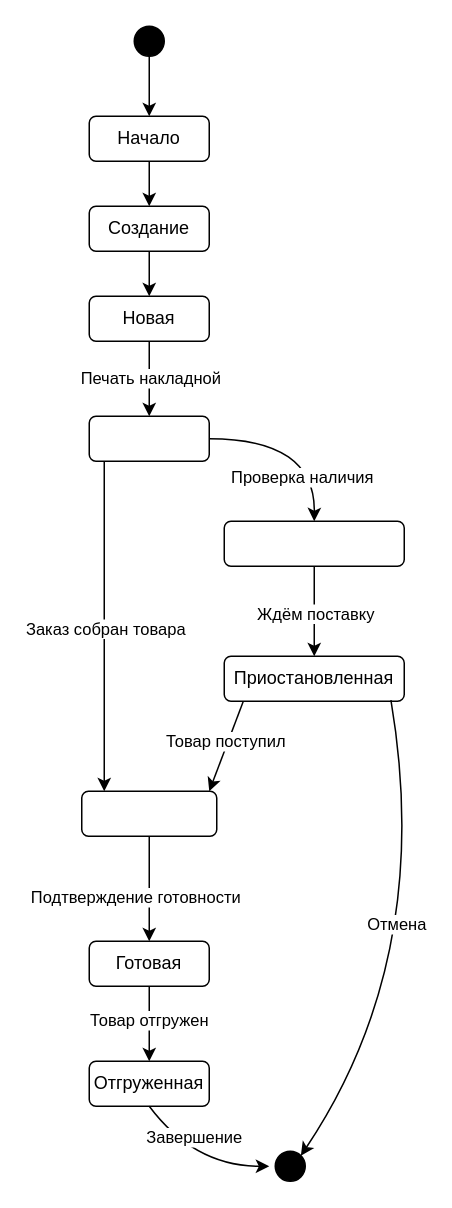
Some shapes in this 452 by 1208 pixel diagram are drawn without their labels. The shapes that lost their labels are listed below. From the top down, each one's centre as x and y in pixels, then its label:
the point at 148,438: Выписанная
the point at 313,543: Нехватка_ товара
the point at 148,813: Заказ_собран
